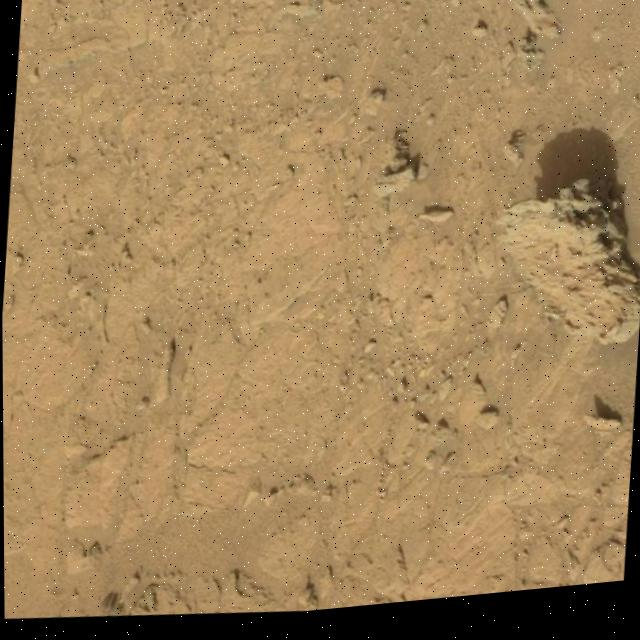mars-rocks: (498, 189, 640, 354)
